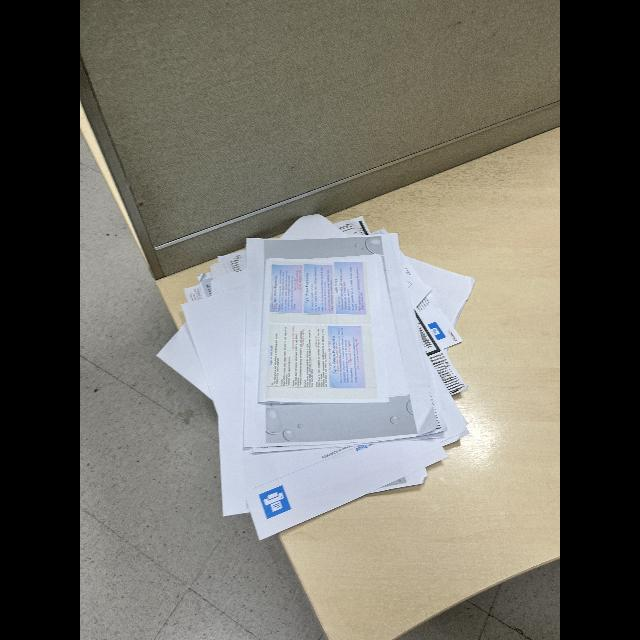reuseable_paper: (155, 204, 481, 546)
